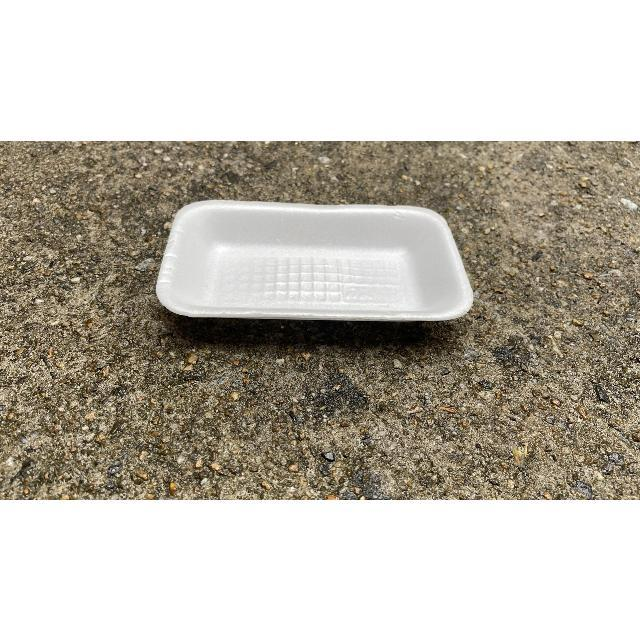Plastico descartable: (154, 200, 475, 326)
